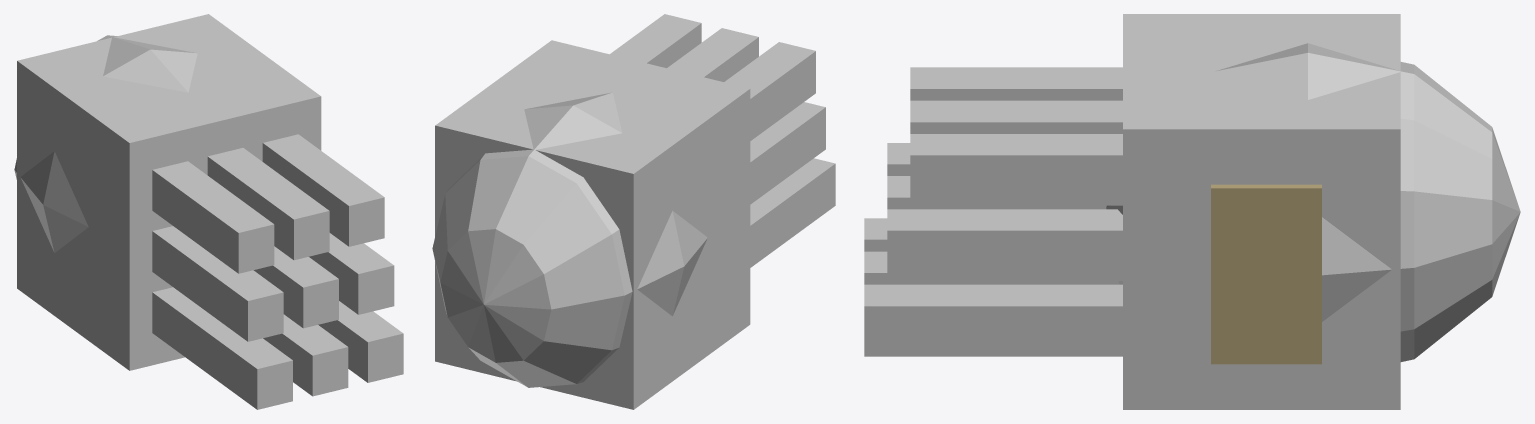
The model's file is Resident2Body.obj.
The picture shows the model from 3 angles, left to right: view 1: azimuth 30°, elevation 25°; view 2: azimuth 150°, elevation 25°; view 3: azimuth 270°, elevation 25°; orthographic projection. The views are drawn at different scales.
Parts seen in each view (by area): view 1: Resident2Body; view 2: Resident2Body; view 3: Resident2Body.
Boxes of the visible parts, box(x1,y1,x2,y2) form: Resident2Body: box(14, 14, 403, 409); Resident2Body: box(432, 14, 835, 409); Resident2Body: box(864, 14, 1520, 409).
Bounding box in the file's own units: 66 × 76 × 142.
